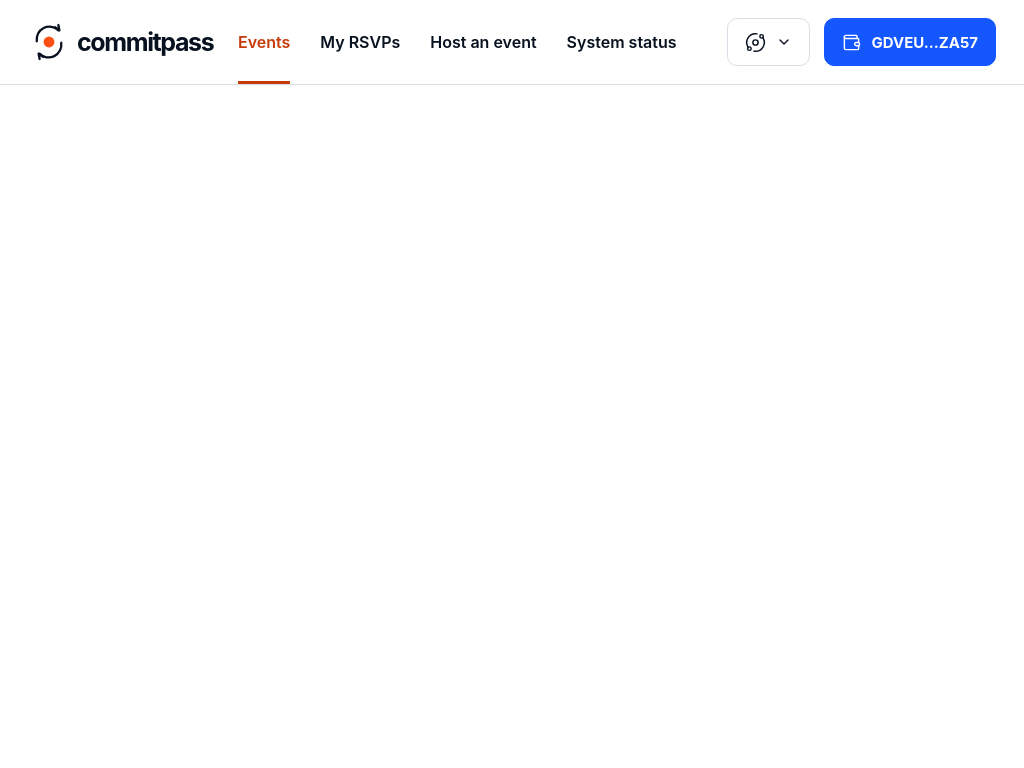
it: AppHeader live Testnet proof › locks payment and disconnect controls while a signature is pending
Click the button "GDVEU…ZA57" at (910, 42), box left=824, top=18, right=996, bottom=66
(page scrolled)
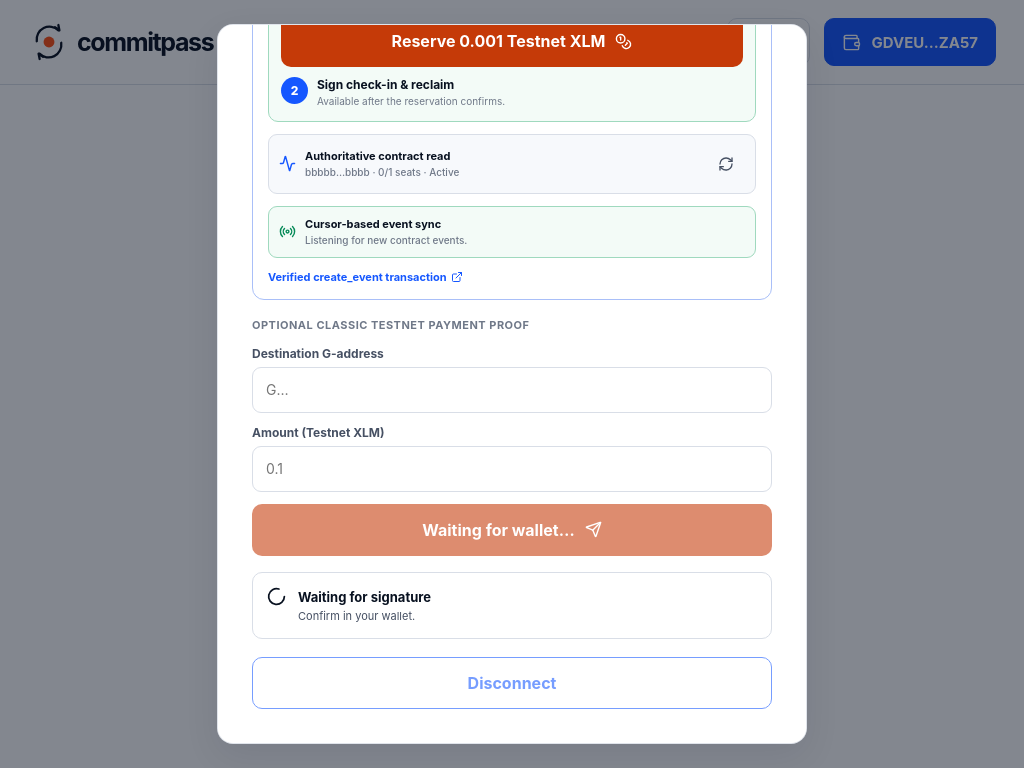
Check: the button "Waiting for wallet…" is disabled, box left=252, top=504, right=772, bottom=556
Check: the button "Disconnect" is disabled, box left=252, top=657, right=772, bottom=709
